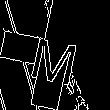M_N: (27, 26, 83, 84)
